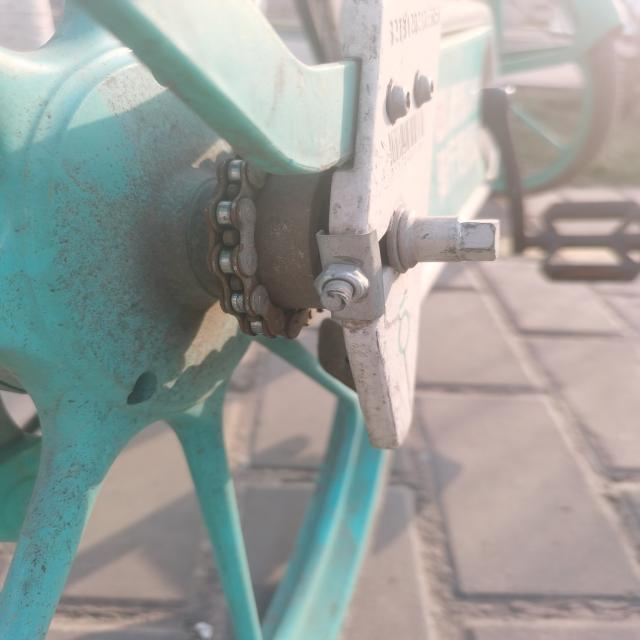bolt nut: (310, 262, 372, 308)
